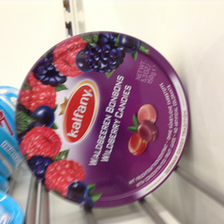candy: (14, 32, 187, 202)
